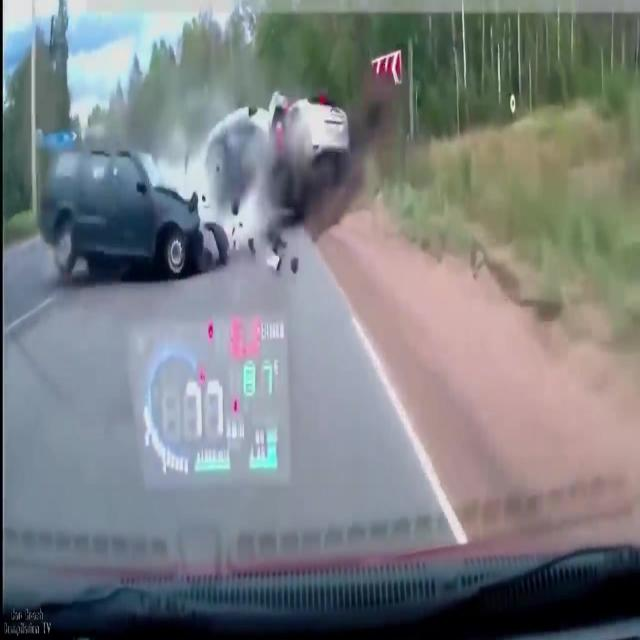accident: (26, 117, 221, 280), (174, 61, 360, 212)
